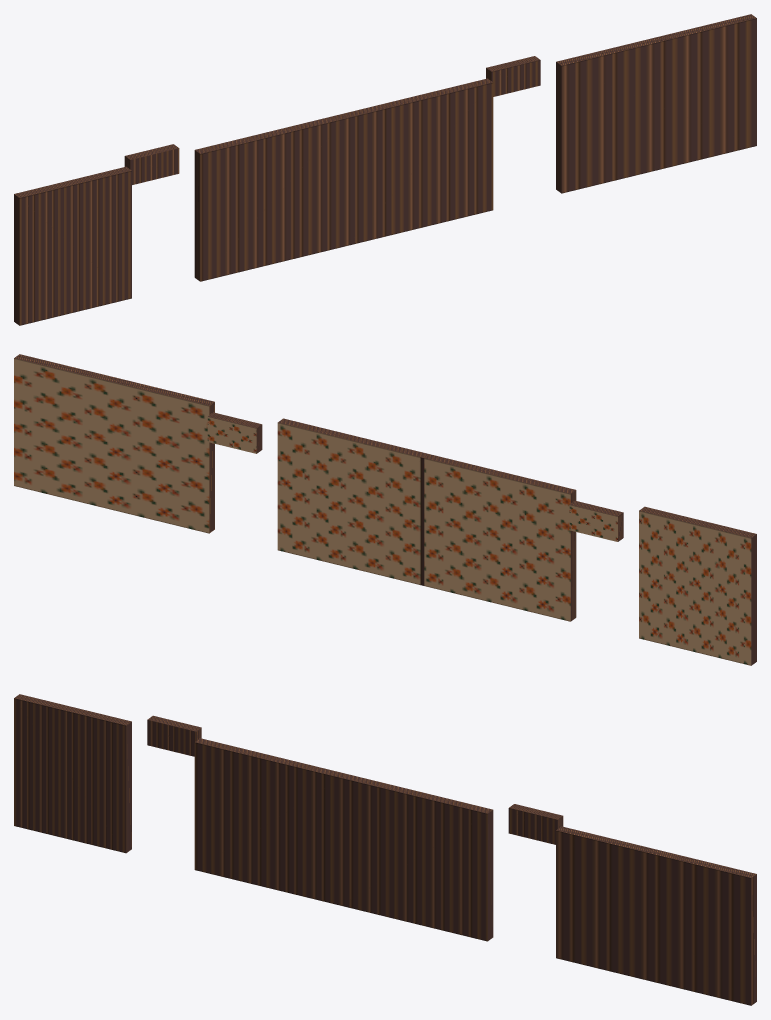
File: Paredes_Habitaciones_Corredor.obj
The picture shows the model from 3 angles, top to bottom: view 1: azimuth 30°, elevation 25°; view 2: azimuth 150°, elevation 25°; view 3: azimuth 330°, elevation 25°; orthographic projection.
Parts seen in each view (by area): view 1: Paredes_Habitaciones_Corredor; view 2: Paredes_Habitaciones_Corredor; view 3: Paredes_Habitaciones_Corredor.
Part boxes in pixels (x1=…): Paredes_Habitaciones_Corredor: x1=14, y1=14, x2=756, y2=325; Paredes_Habitaciones_Corredor: x1=14, y1=354, x2=756, y2=665; Paredes_Habitaciones_Corredor: x1=14, y1=694, x2=756, y2=1005.
Bounding box in the file's own units: 9.44 × 1.56 × 0.375.
1 material, 1 textured.
